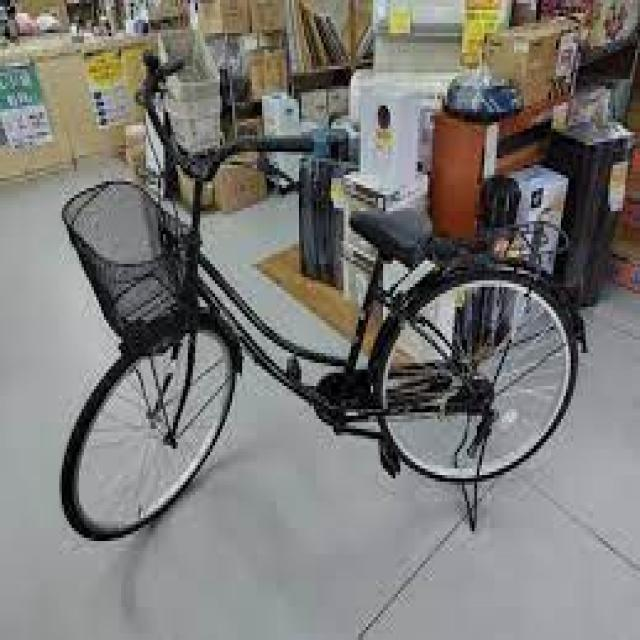basket: (60, 173, 200, 347)
